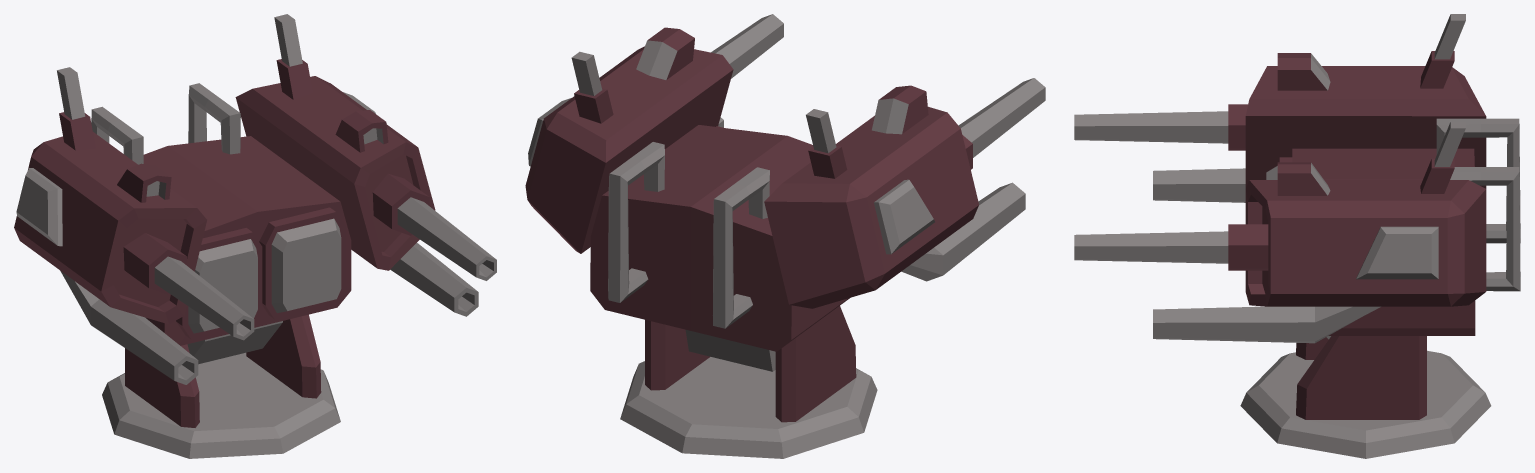
Rendered from scifi-turret-head-dual-heavy-big.fbx.
3 renders of one model, left to right at view 1: azimuth 30°, elevation 25°; view 2: azimuth 150°, elevation 25°; view 3: azimuth 270°, elevation 25°, orthographic. The views are drawn at different scales.
Visible parts, largest first — view 1: scifi-turret-head-dual-heavy-big; view 2: scifi-turret-head-dual-heavy-big; view 3: scifi-turret-head-dual-heavy-big.
Part boxes in pixels (box(x1,y1,x2,y2)): scifi-turret-head-dual-heavy-big: box(14, 14, 496, 458); scifi-turret-head-dual-heavy-big: box(525, 14, 1045, 458); scifi-turret-head-dual-heavy-big: box(1074, 14, 1520, 458).
Bounding box in the file's own units: 3.55 × 3.24 × 3.92.
